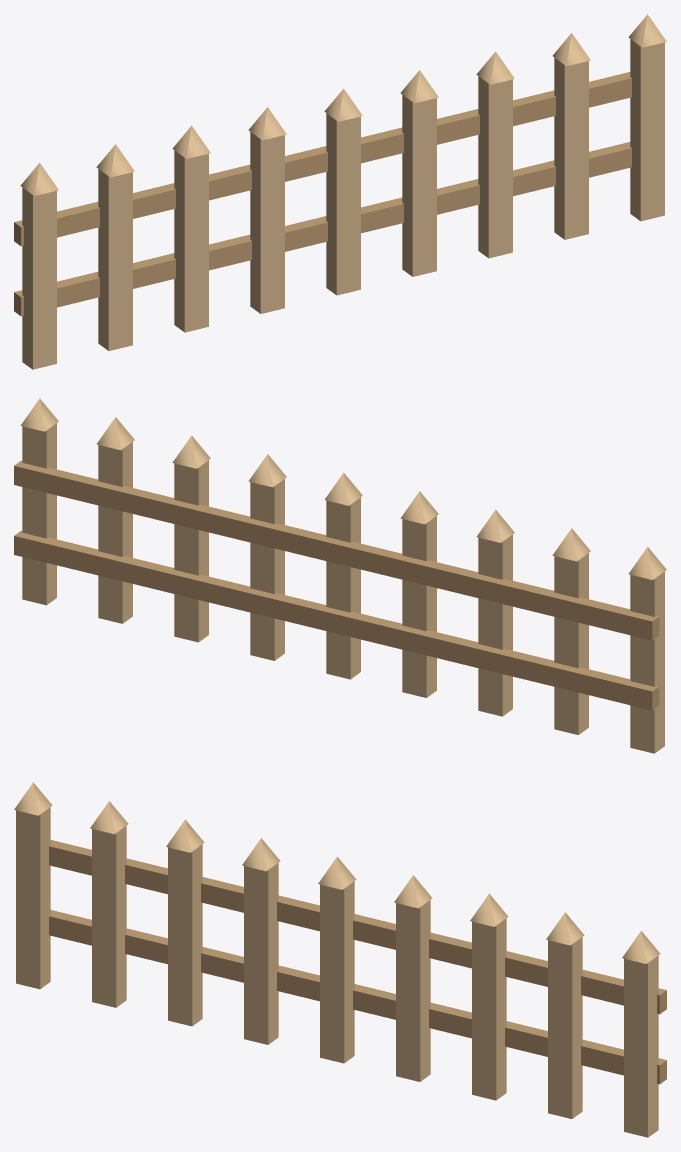
The model's file is pagar.glb.
The picture shows the model from 3 angles, top to bottom: view 1: azimuth 30°, elevation 25°; view 2: azimuth 150°, elevation 25°; view 3: azimuth 330°, elevation 25°; orthographic projection.
Visible parts, largest first — view 1: pagar; view 2: pagar; view 3: pagar.
Part boxes in pixels (x1,y1,x2,y2): pagar: (14, 14, 666, 369); pagar: (14, 398, 666, 753); pagar: (14, 782, 666, 1137).
Bounding box in the file's own units: 2.1 × 0.63 × 0.1003.
